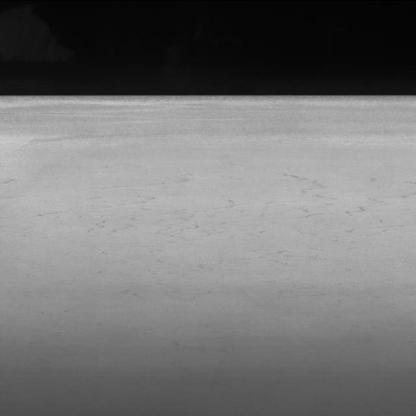silk_spot: (41, 162, 388, 250)
